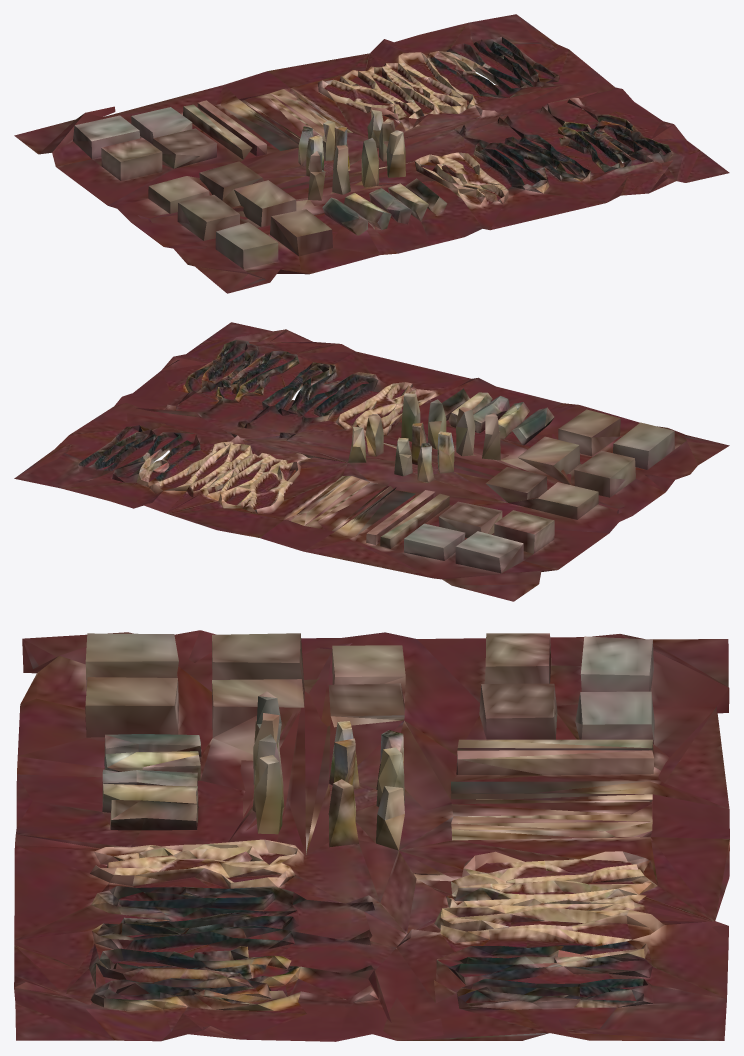
The model's file is matbeads.glb.
The picture shows the model from 3 angles, top to bottom: view 1: azimuth 30°, elevation 25°; view 2: azimuth 150°, elevation 25°; view 3: azimuth 270°, elevation 25°; orthographic projection. The views are drawn at different scales.
Size of the model in its own units: 1.9 by 0.186 by 1.43.
Materials: 1 (1 with a texture image).
